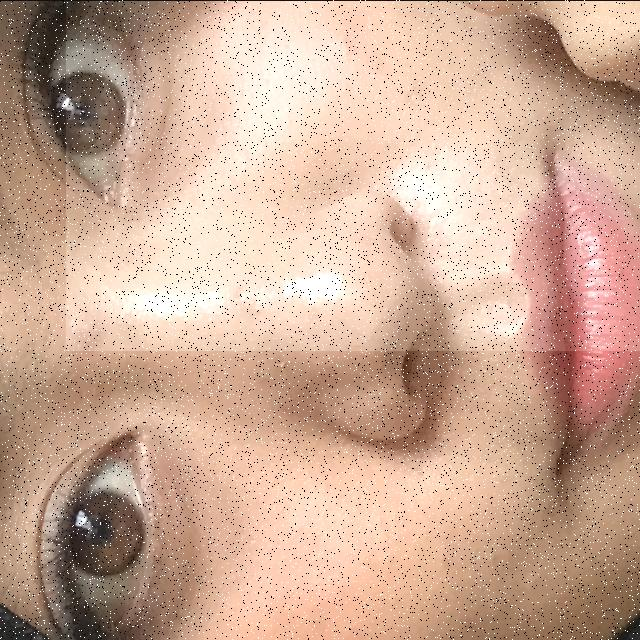telpon: (66, 0, 640, 350)
